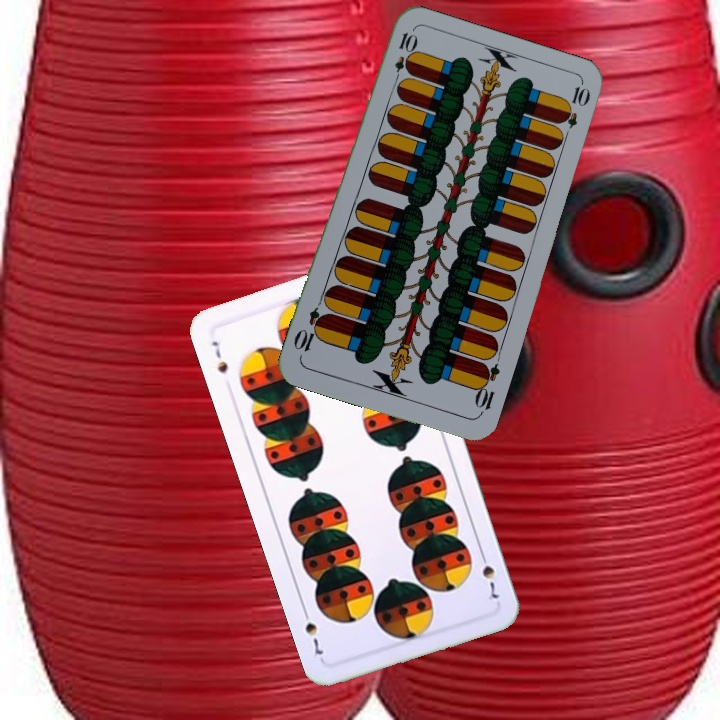E10: (470, 359, 503, 418), (390, 28, 417, 87)
S7: (476, 547, 503, 605), (207, 337, 231, 376)
